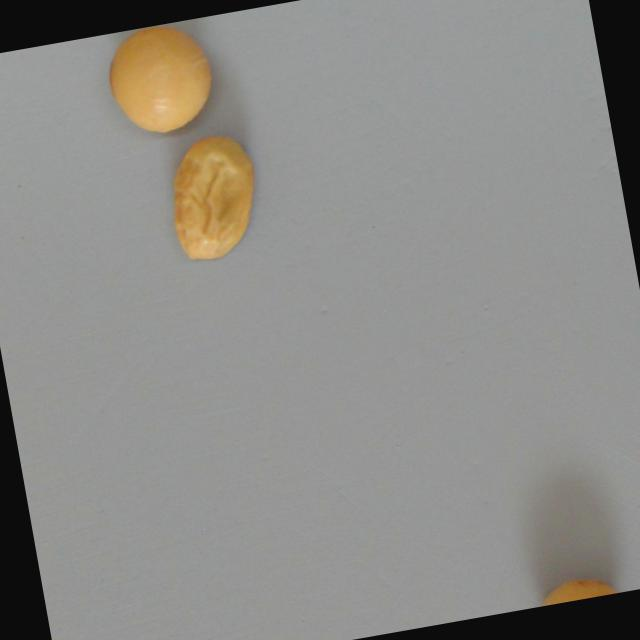cuerpos_extranos: (158, 124, 270, 264), (98, 16, 219, 140), (519, 556, 628, 609)
